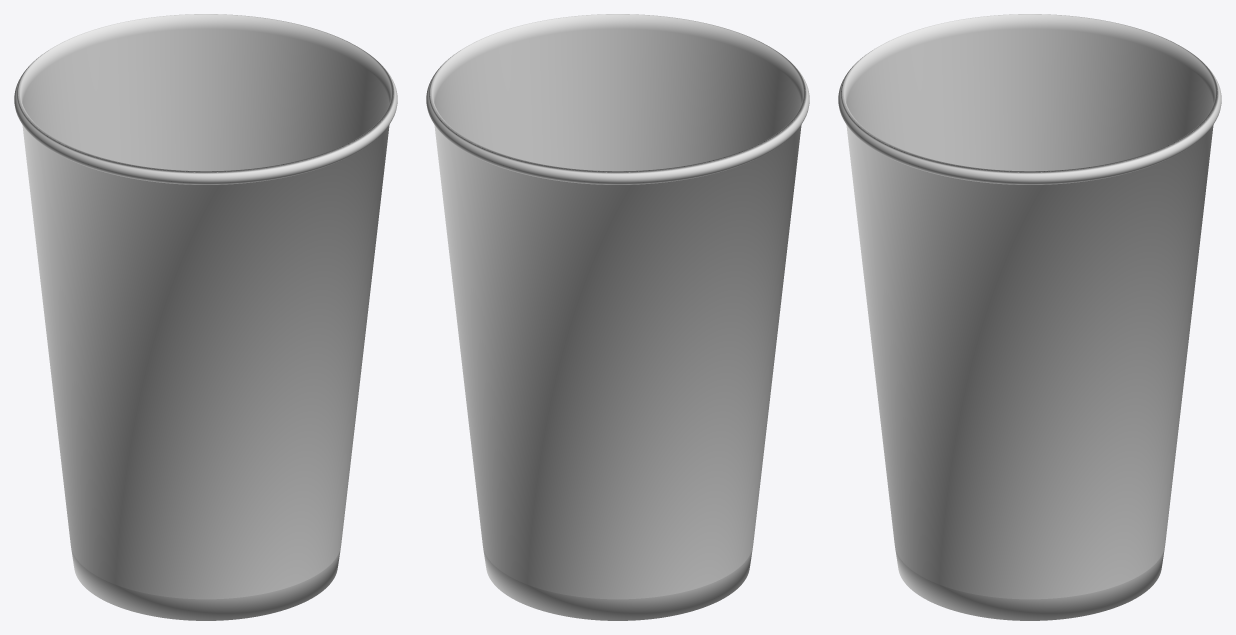
Rendered from gota-12oz.glb.
3 renders of one model, left to right at view 1: azimuth 30°, elevation 25°; view 2: azimuth 150°, elevation 25°; view 3: azimuth 270°, elevation 25°, orthographic.
Visible parts, largest first — view 1: GOTSA; view 2: GOTSA; view 3: GOTSA.
Boxes of the visible parts, box(x1,y1,x2,y2) form: GOTSA: box(14, 14, 397, 620); GOTSA: box(426, 14, 809, 620); GOTSA: box(838, 14, 1221, 620).
Bounding box in the file's own units: 0.0845 × 0.1148 × 0.0845.
2 materials, 1 textured.
